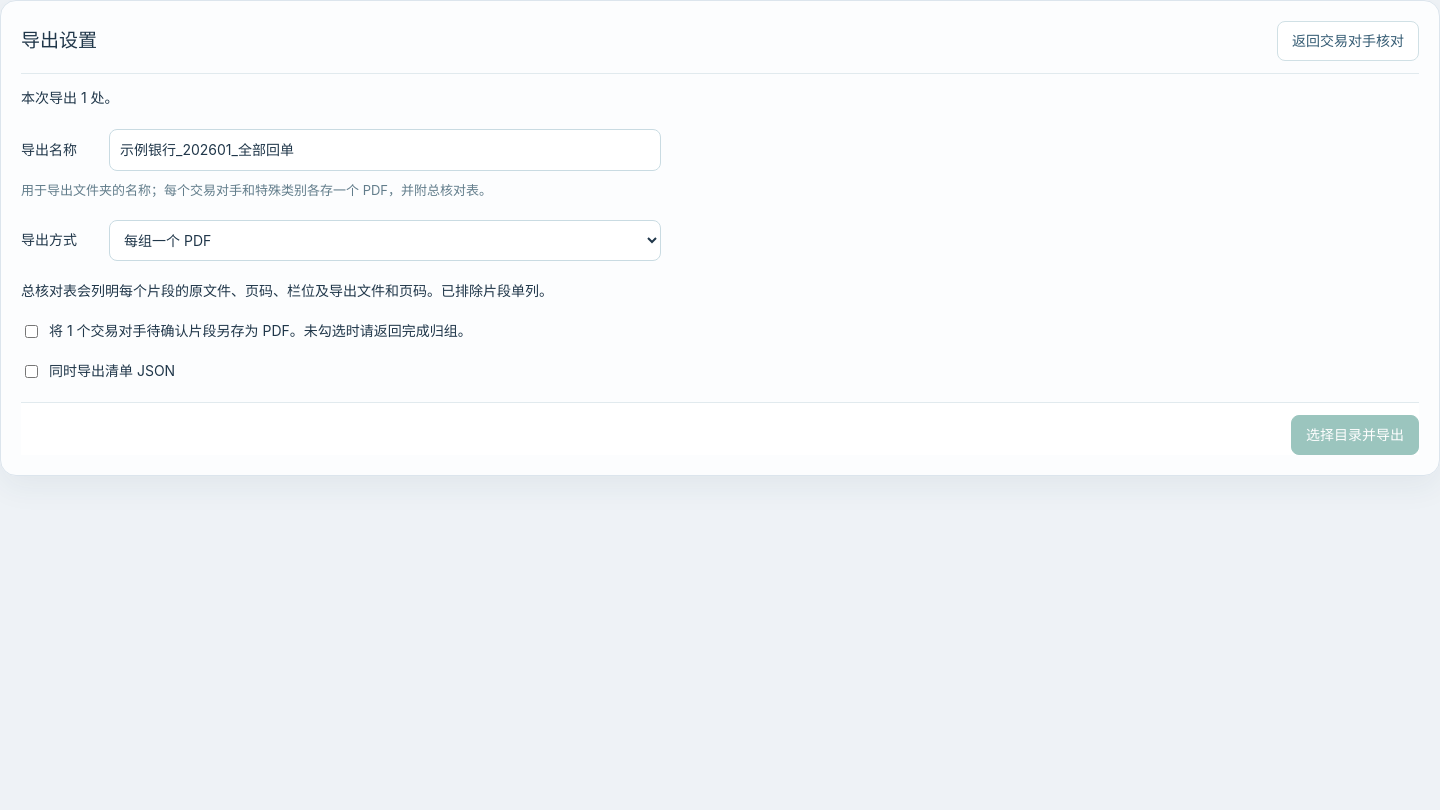
Test: ReceiptExportWorkspace direct export › requires an explicit pending destination and always includes the grouped check sheet
The image size is (1440, 810).
Expected: the button "返回交易对手核对" is shown, [1277,21,1419,61]
Expected: the dropdown labelled "导出方式" shows "每组一个 PDF", [109,220,661,261]
Click the checkbox labelled "另存为 PDF". click: (32, 331)
box: [25,325,38,338]
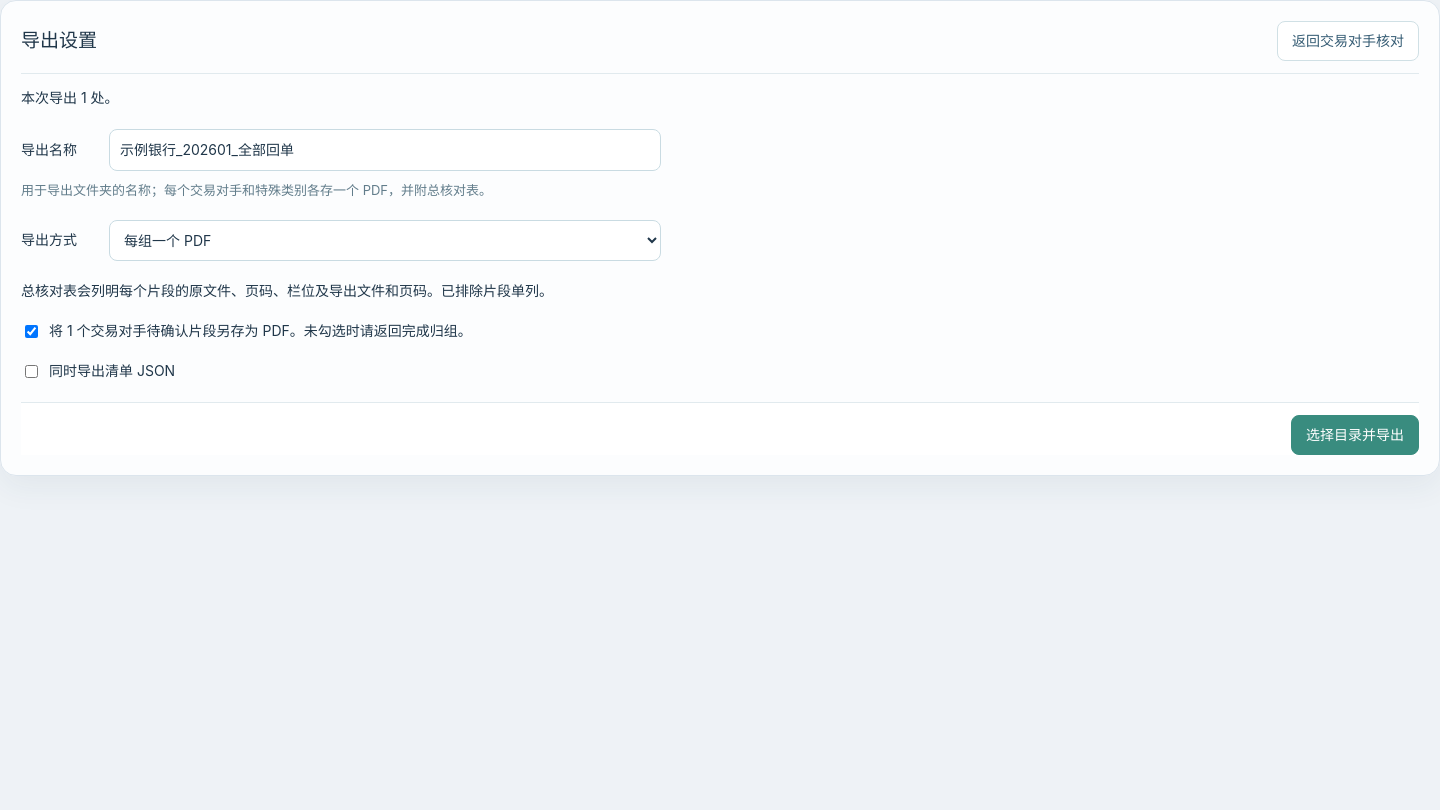
Click the button "选择目录并导出". click: (1355, 435)
box: [1291,415,1419,455]
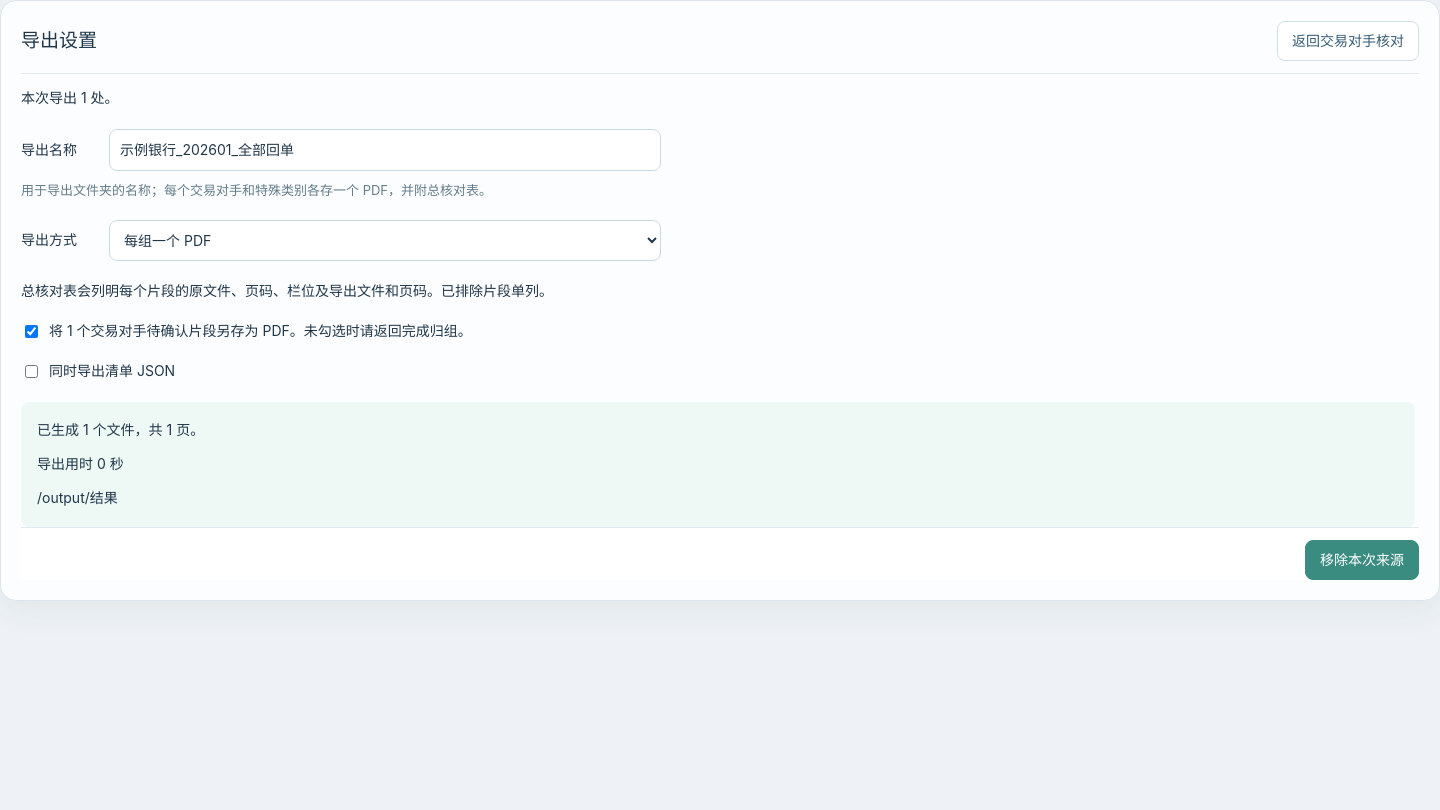
Expected: the text "已生成 1 个文件，共 1 页。" is shown, [37,421,204,438]
